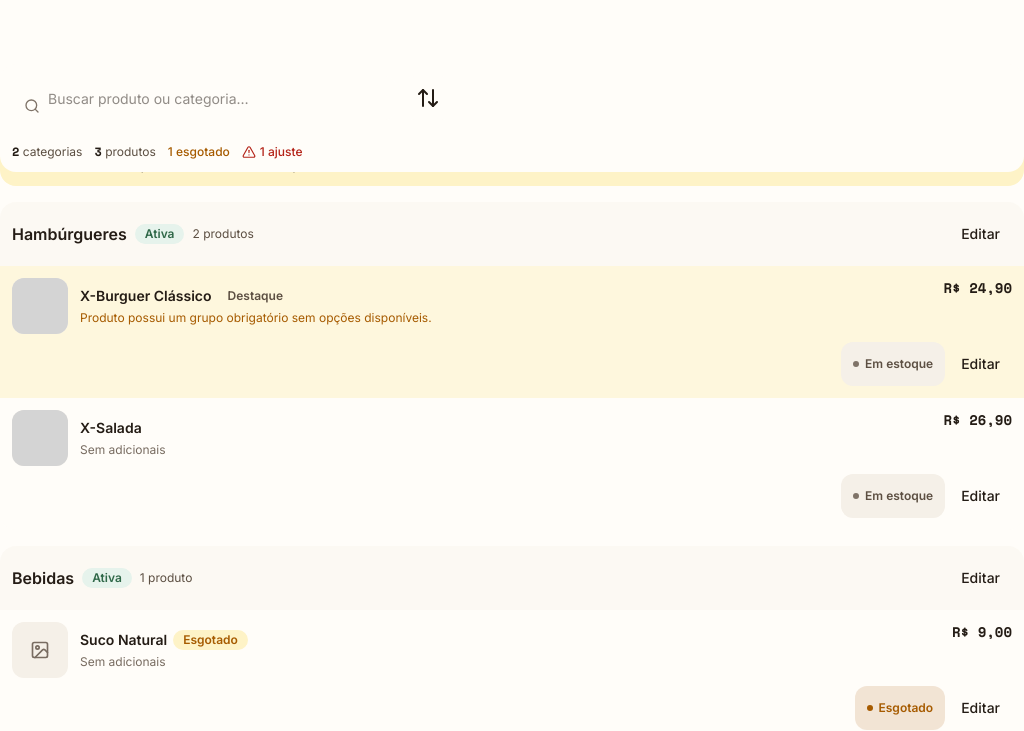
Test: CatalogClientView › filtra sem acentos e remove o modo de organização durante a busca
Click the button named "Organizar" at coordinates (428, 98), box 404,76 -> 452,120
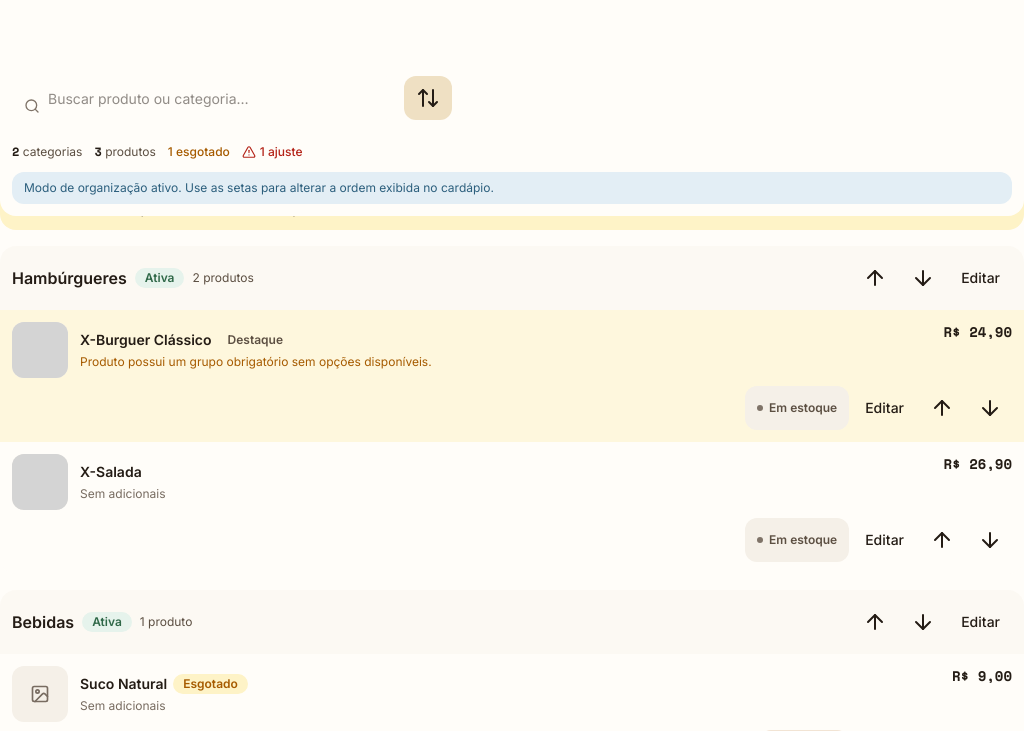
Type "suco" into the search field named "Buscar no catálogo" at coordinates (204, 98), box 12,76 -> 396,120
Wait 250 ms
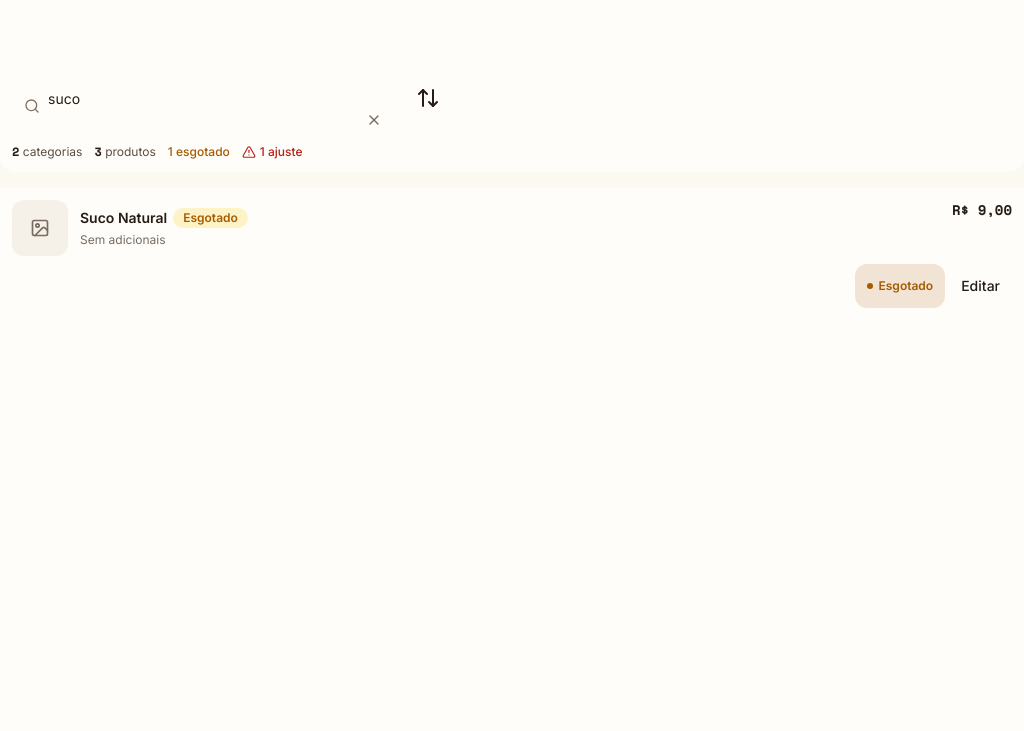
Expected: the heading "Bebidas" is shown, 12,144 -> 74,168
Result: the heading "Hambúrgueres" is gone
Result: the button named "Organizar" is disabled at 404,76 -> 452,120
